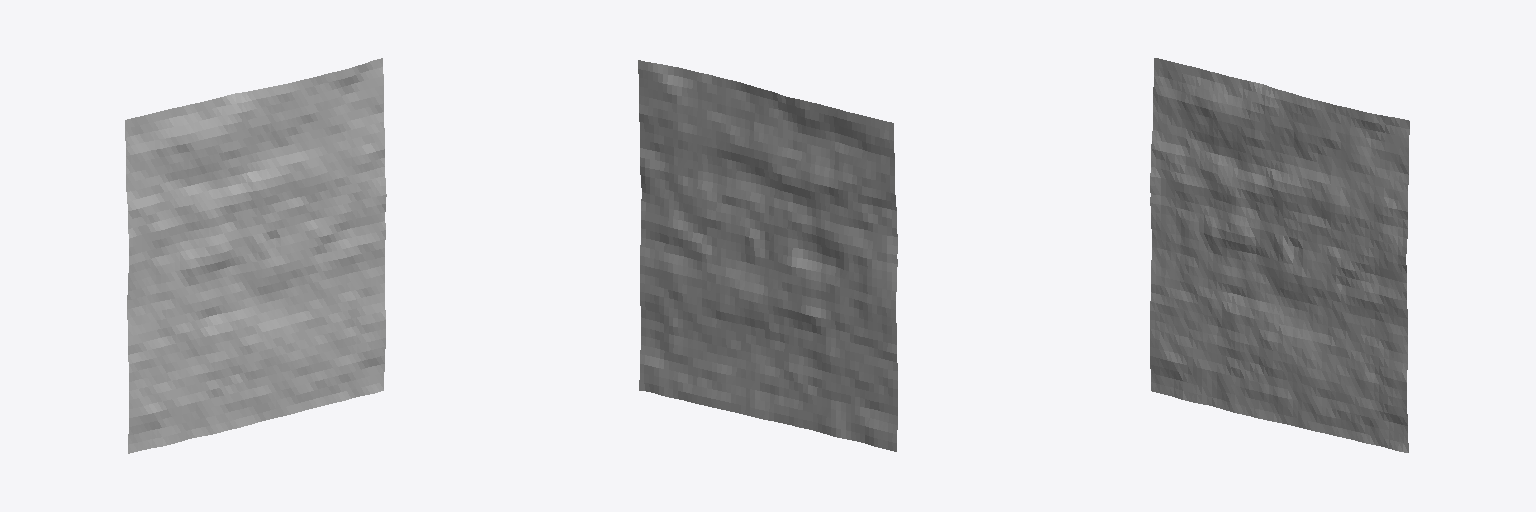
The model's file is 无标题.obj.
3 views of the same model, side by side, from view 1: azimuth 30°, elevation 25°; view 2: azimuth 150°, elevation 25°; view 3: azimuth 330°, elevation 25° (orthographic).
Visible parts, largest first — view 1: EXPORT_GOOGLE_SAT_WM.001; view 2: EXPORT_GOOGLE_SAT_WM.001; view 3: EXPORT_GOOGLE_SAT_WM.001.
Part boxes in pixels (x1,y1,x2,y2): EXPORT_GOOGLE_SAT_WM.001: (125, 58, 386, 453); EXPORT_GOOGLE_SAT_WM.001: (638, 60, 897, 451); EXPORT_GOOGLE_SAT_WM.001: (1150, 58, 1409, 452).
Bounding box in the file's own units: 75.47 × 93.08 × 2.61.